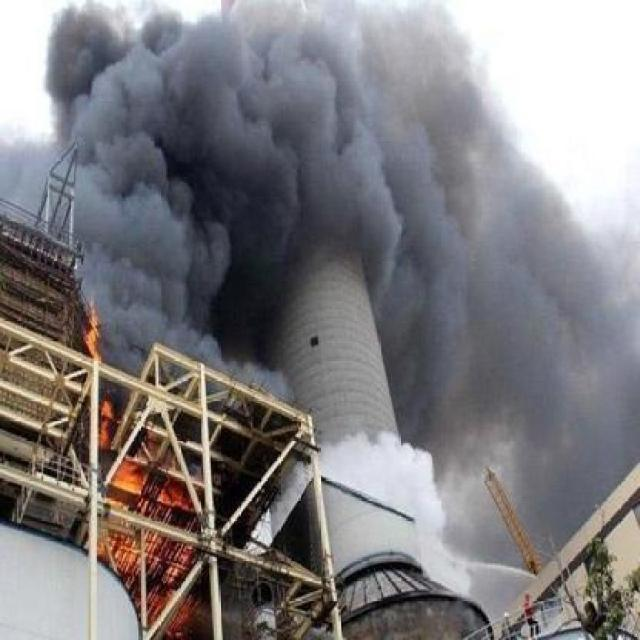Fire: (44, 10, 622, 273), (106, 462, 212, 583), (78, 289, 119, 372), (141, 592, 207, 640), (99, 394, 112, 450)
